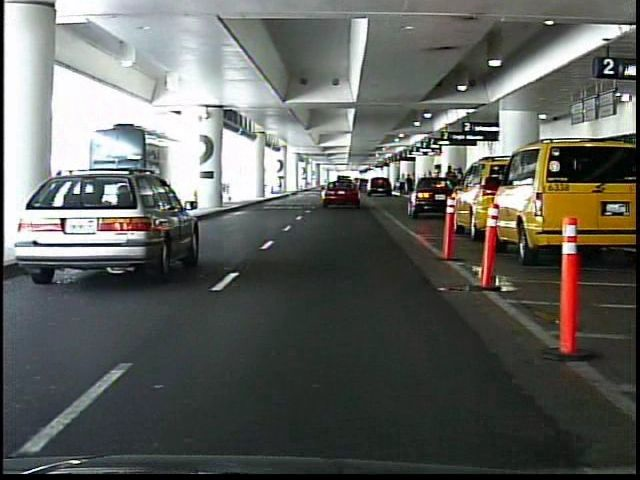person: (441, 162, 460, 212), (453, 166, 468, 210), (398, 174, 408, 196), (406, 173, 413, 196)
